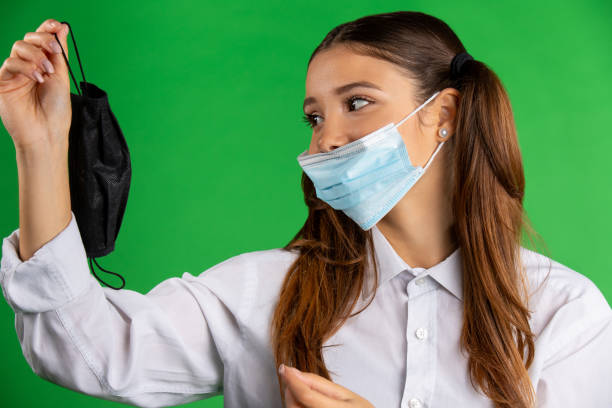mask_weared_incorrect: (296, 38, 464, 229)
